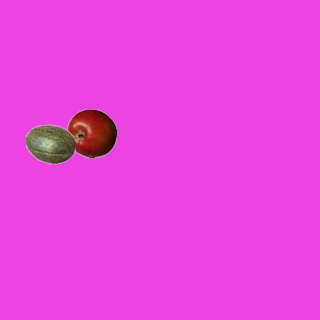Apple Braeburn: (66, 108, 116, 158)
Melon Piel de Sapo: (25, 119, 75, 169)
